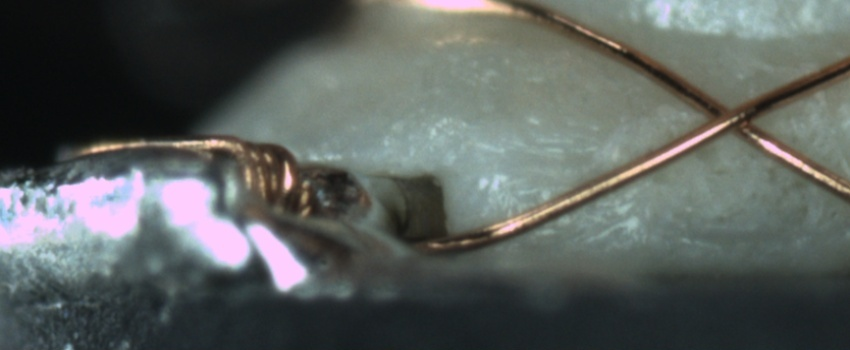CL: (683, 82, 778, 148)
DL: (484, 132, 612, 183)
TE: (76, 135, 311, 226)
